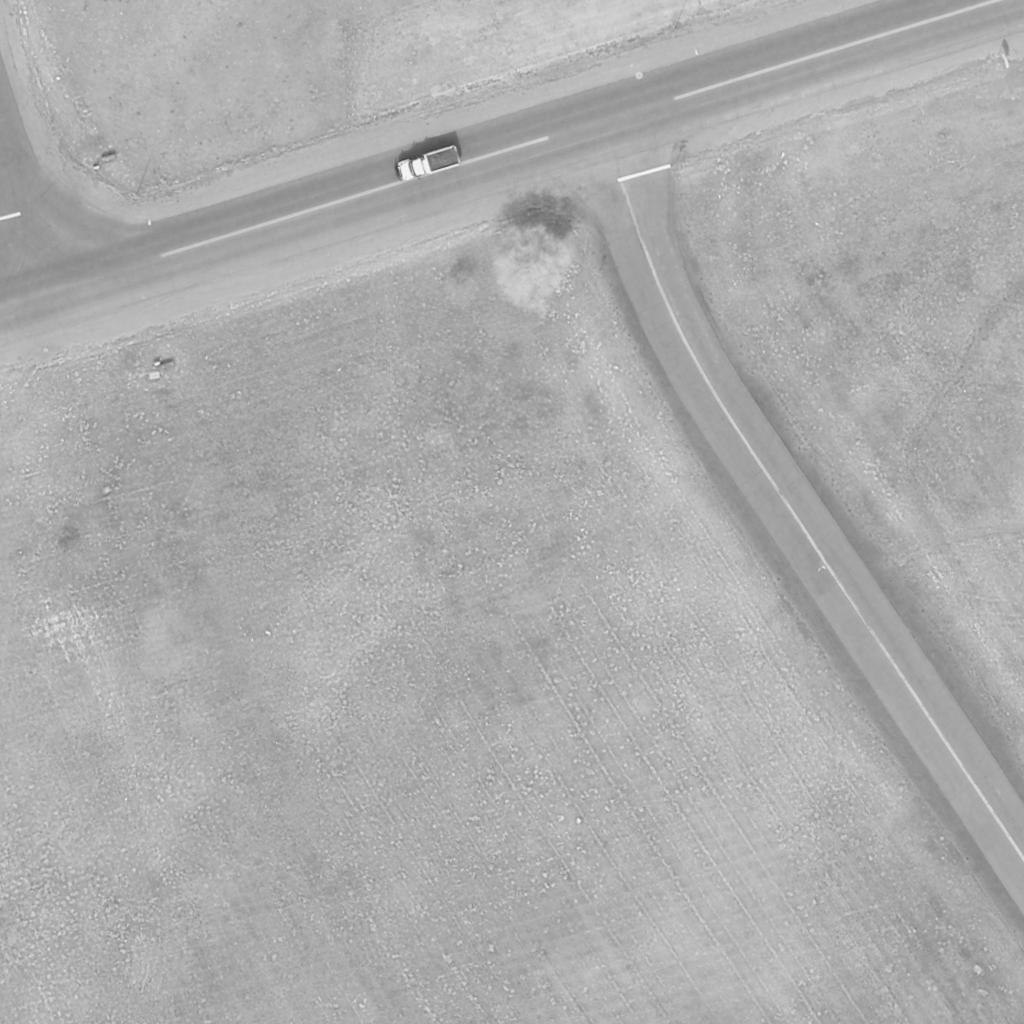vehicle: (395, 144, 461, 186)
